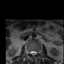CCS_normal: (32, 48, 34, 58)
LFS_normal: (36, 49, 38, 55)
LLS_normal: (34, 49, 36, 56)
RFS_normal: (28, 49, 30, 55)
RLS_normal: (30, 49, 32, 56)
